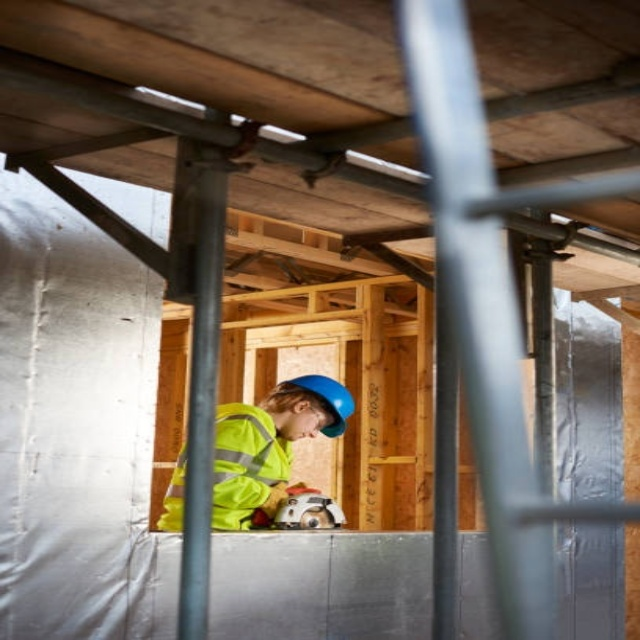Gafas: (302, 399, 333, 433)
Sin_mascara: (290, 422, 317, 444)
